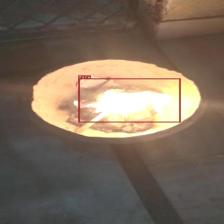fire: (78, 78, 180, 122)
